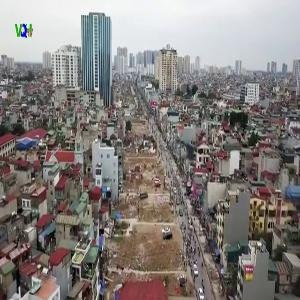drone: (151, 112, 233, 194)
